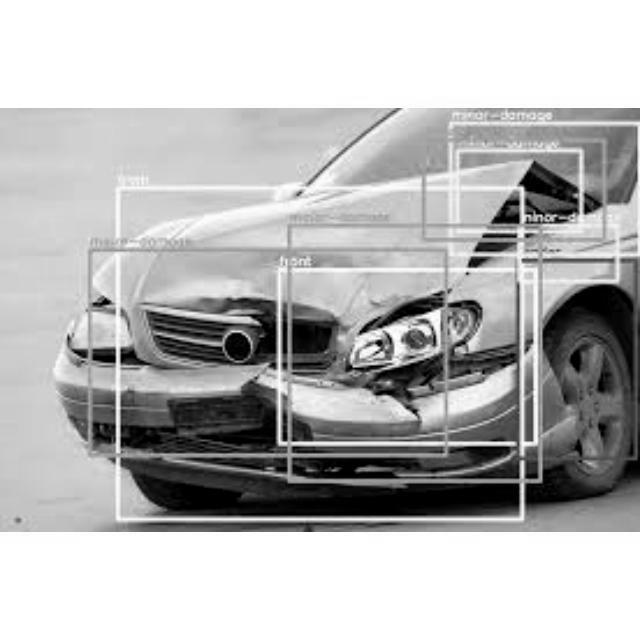Headlight-damage: (344, 297, 485, 385), (50, 301, 146, 364)
bonnet-dent: (99, 177, 591, 339)
front-bumper-dent: (61, 353, 577, 479)
